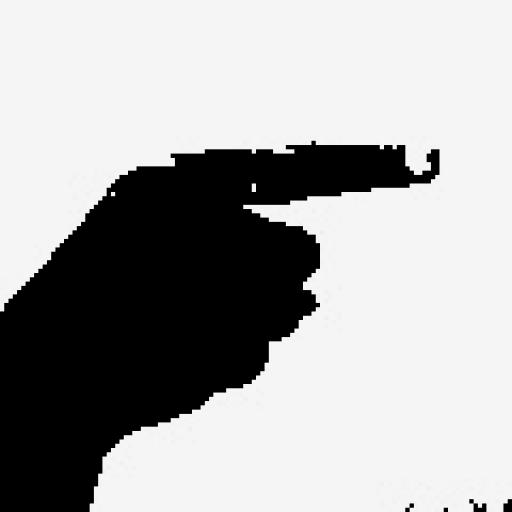index_left: (0, 138, 442, 395)
